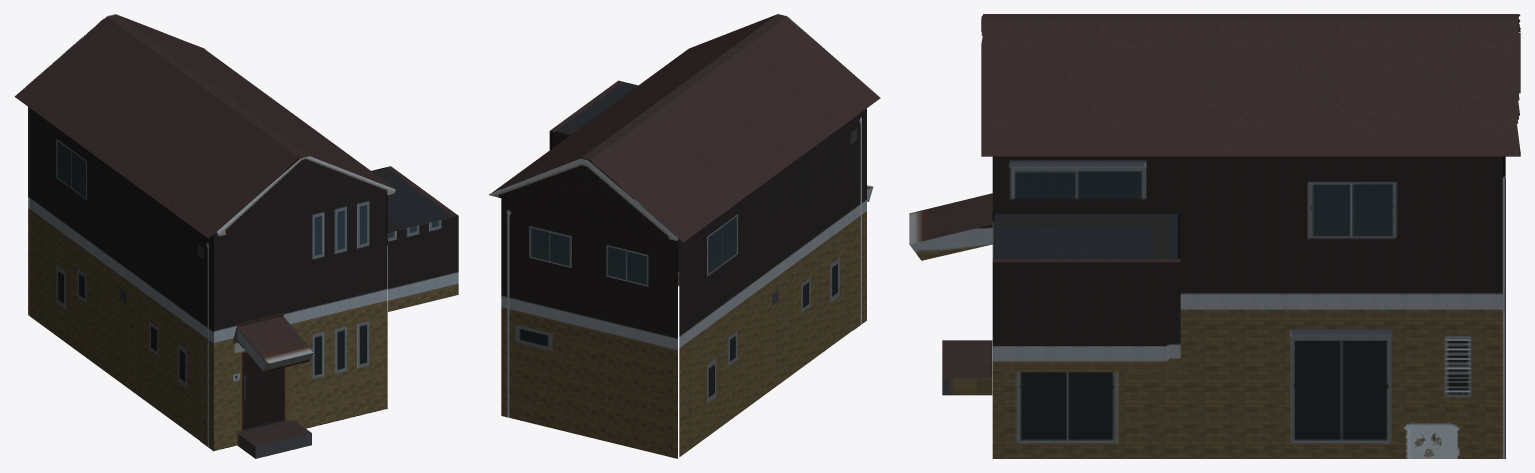
The model's file is house14_low.fbx.
3 renders of one model, left to right at view 1: azimuth 30°, elevation 25°; view 2: azimuth 150°, elevation 25°; view 3: azimuth 270°, elevation 25°, orthographic. The views are drawn at different scales.
Parts seen in each view (by area): view 1: pCube6; view 2: pCube6; view 3: pCube6.
Part boxes in pixels (x1,y1,x2,y2): pCube6: (14, 14, 458, 458); pCube6: (489, 14, 880, 458); pCube6: (909, 14, 1520, 458).
Bounding box in the file's own units: 810 × 841 × 1216.
5 materials, 5 textured.
